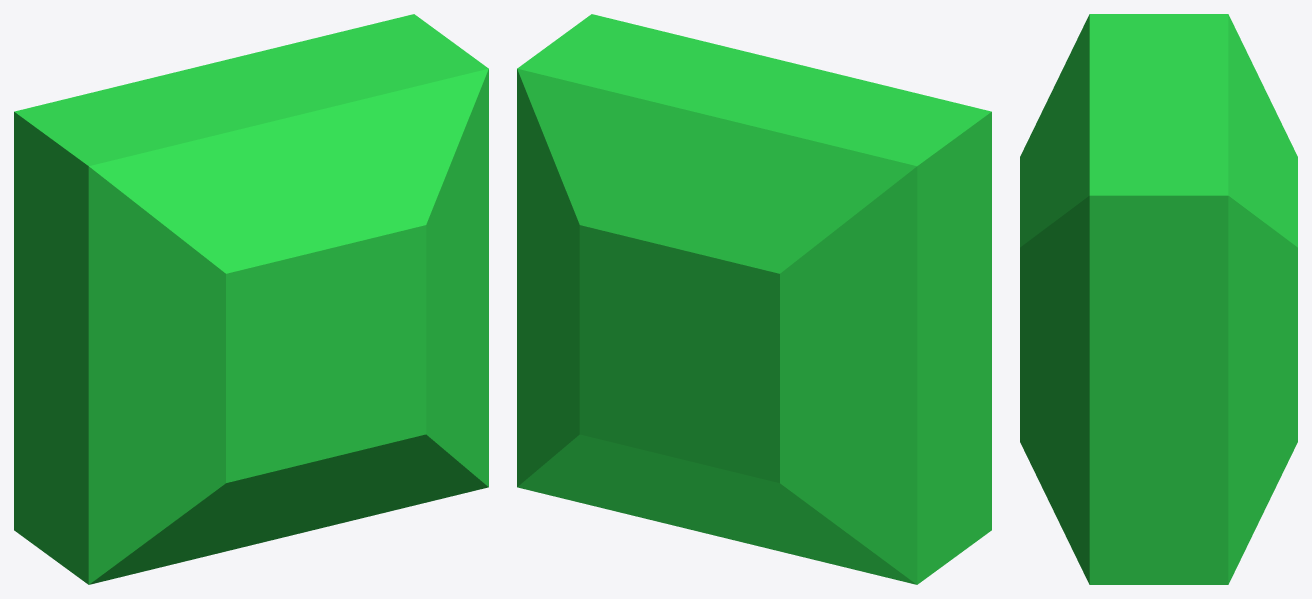
File: Gem2.fbx
3 renders of one model, left to right at view 1: azimuth 30°, elevation 25°; view 2: azimuth 150°, elevation 25°; view 3: azimuth 270°, elevation 25°, orthographic. The views are drawn at different scales.
Visible parts, largest first — view 1: Gem2; view 2: Gem2; view 3: Gem2.
Part boxes in pixels (<box>): Gem2: <box>14,14,488,584</box>; Gem2: <box>517,14,991,584</box>; Gem2: <box>1020,14,1297,584</box>.
Size of the model in its own units: 173 by 173 by 112.
